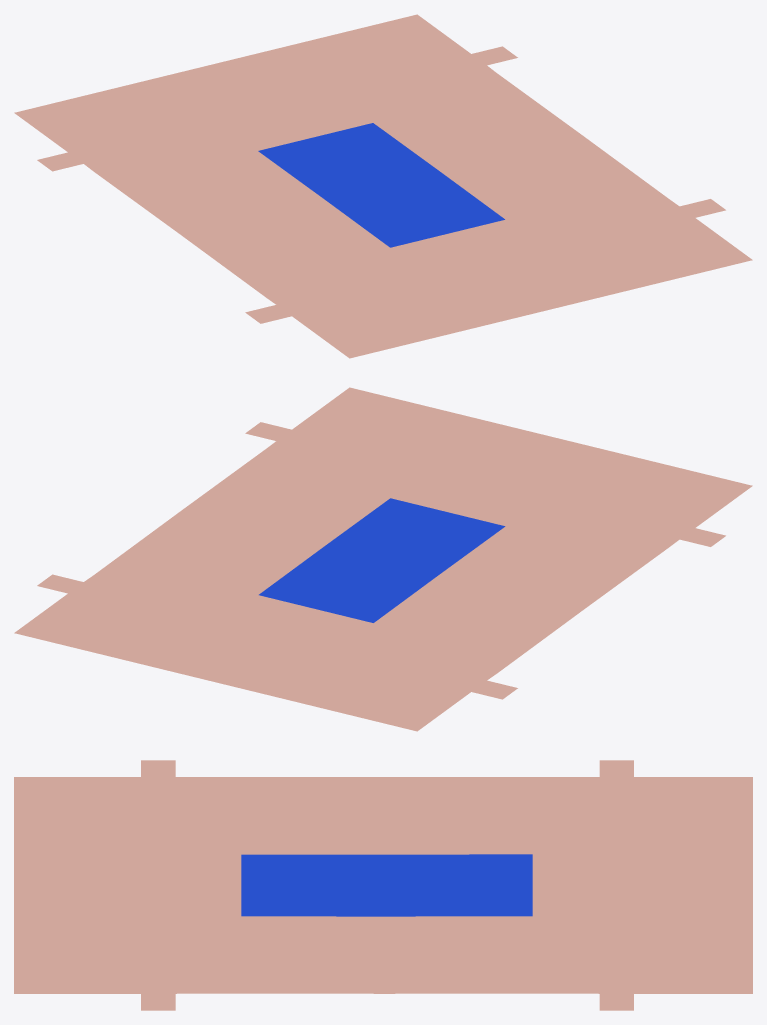
The model's file is pitch.fbx.
The picture shows the model from 3 angles, top to bottom: view 1: azimuth 30°, elevation 25°; view 2: azimuth 150°, elevation 25°; view 3: azimuth 270°, elevation 25°; orthographic projection. The views are drawn at different scales.
Visible parts, largest first — view 1: Out; view 2: Out; view 3: Out.
Part boxes in pixels (x1,y1,x2,y2): Out: [14, 14, 752, 358]; Out: [14, 387, 752, 731]; Out: [14, 760, 752, 1010].
Size of the model in its own units: 3667 by 0.000746 by 4576.
